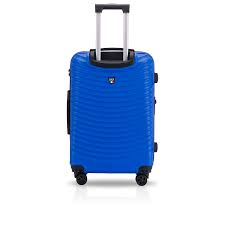suitcase: (64, 2, 160, 187)
